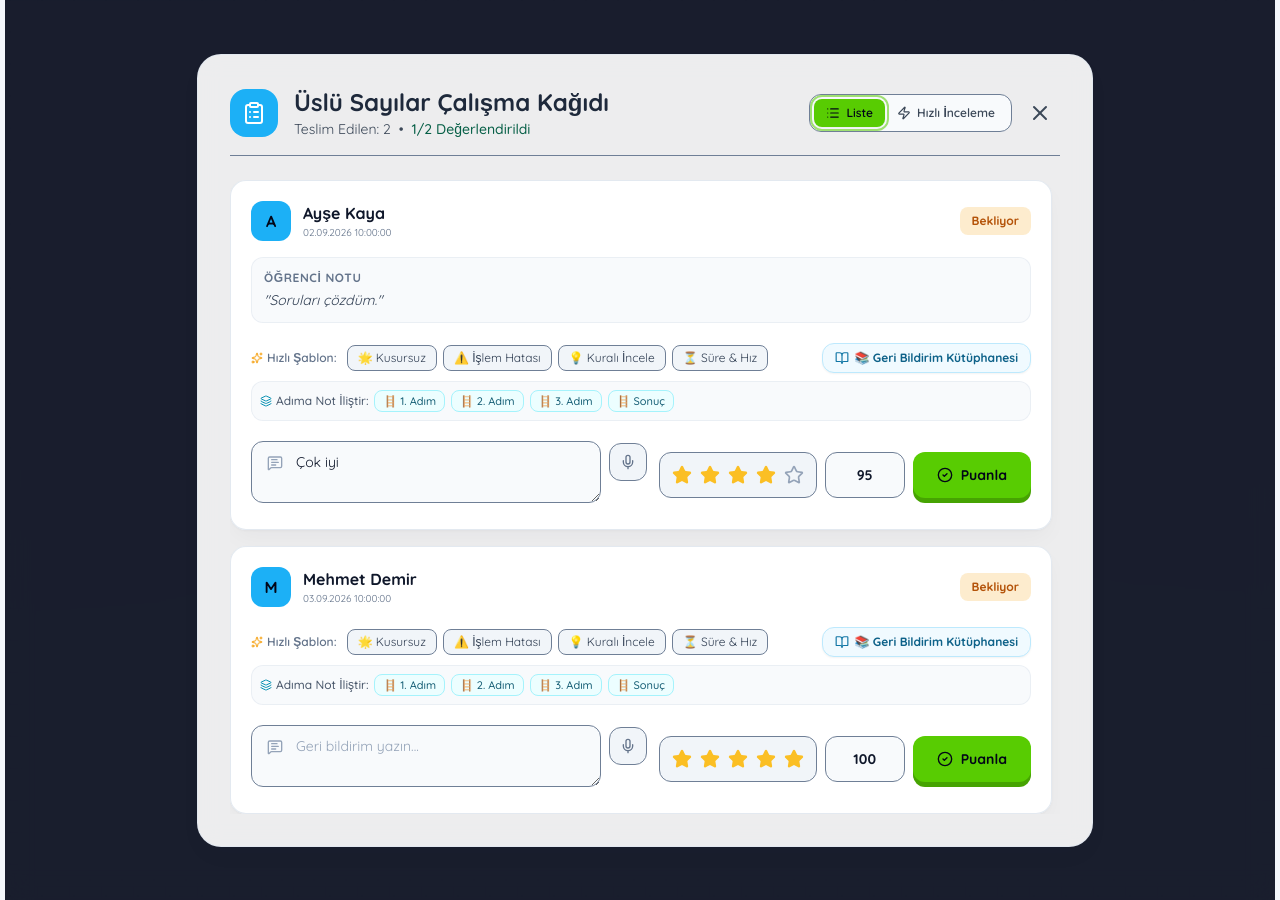
Scenario: AdminSubmissionsModal Component › renders submissions modal and toggles Speed Grader mode
Check: the heading "Üslü Sayılar Çalışma Kağıdı" is shown, box [294, 86, 609, 116]
Check: the text "1/2 Değerlendirildi" is shown, box [412, 118, 530, 138]
Switch to Speed Grader
Click the button "Hızlı İnceleme": click(946, 112) [885, 98, 1007, 126]
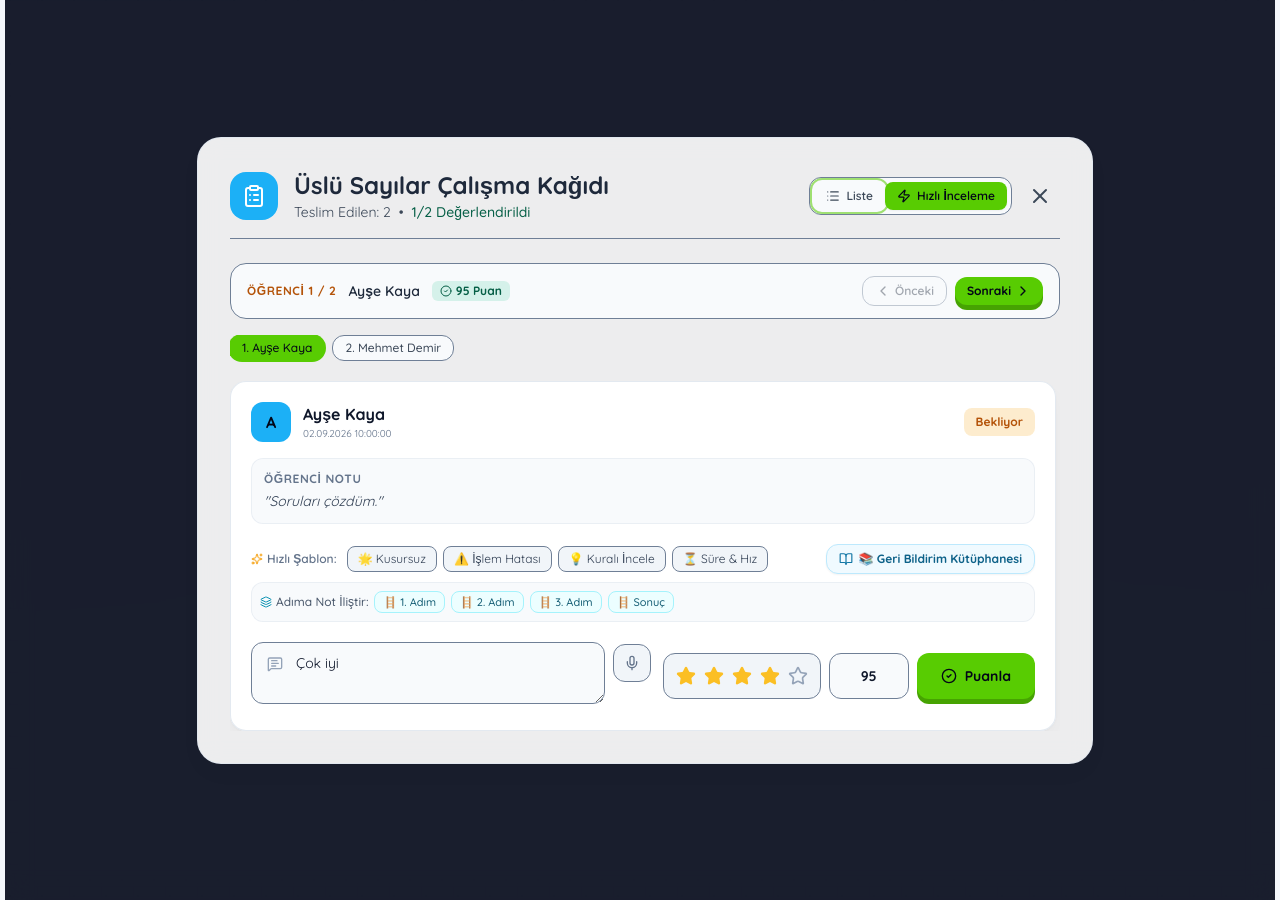
Check: the text "Öğrenci 1 / 2" is shown, box [247, 282, 336, 298]
Navigate to next student
Click the button "Sonraki": click(999, 290) [955, 276, 1043, 304]
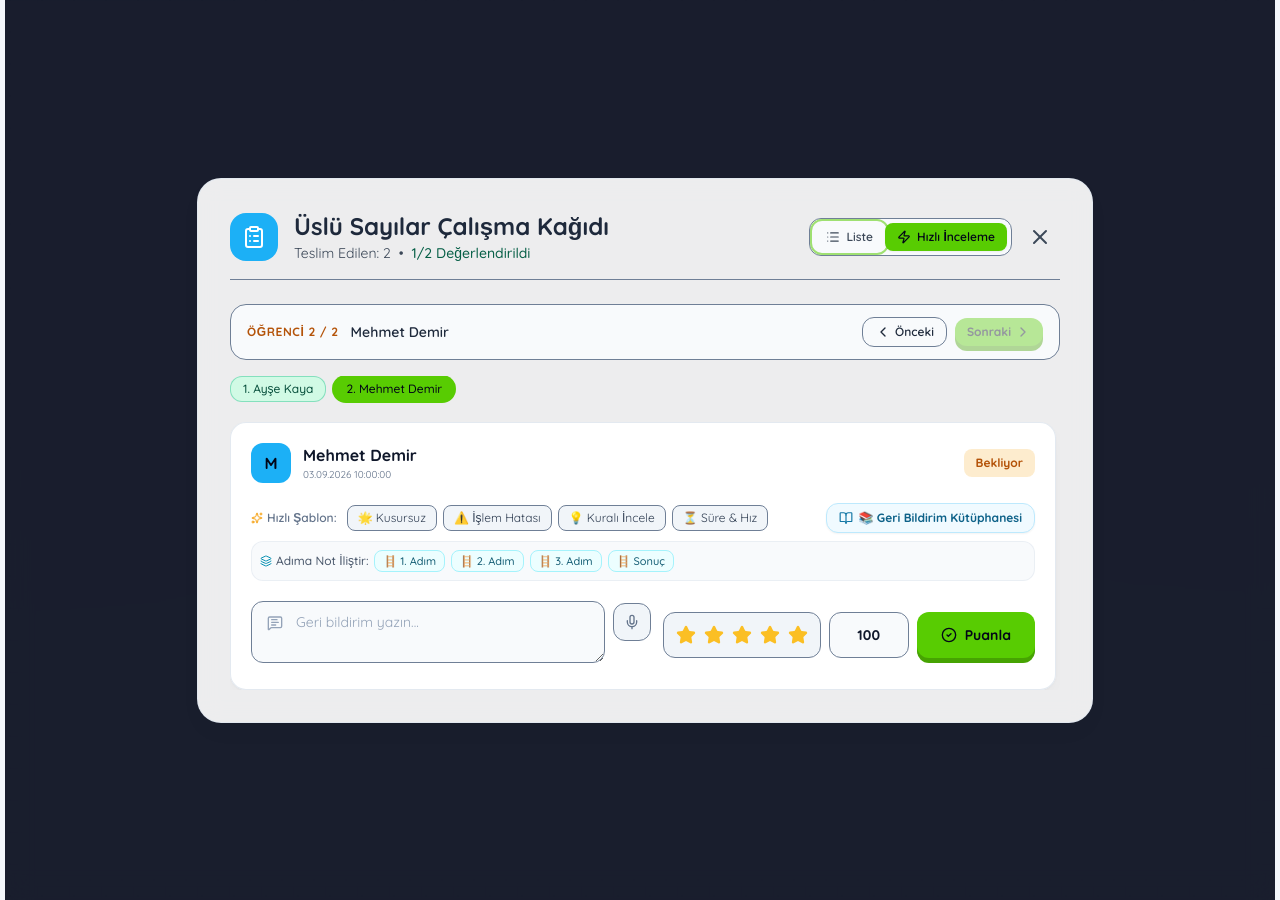
Check: the text "Öğrenci 2 / 2" is shown, box [247, 324, 339, 340]
